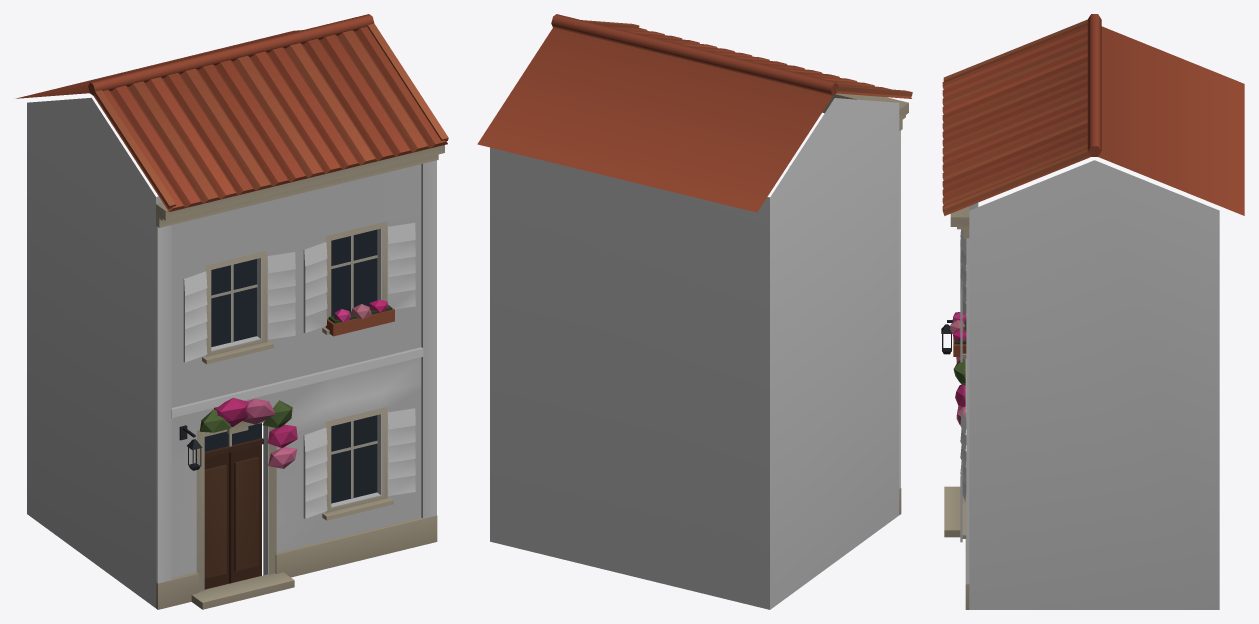
The model's file is plaza-house-a.glb.
3 renders of one model, left to right at view 1: azimuth 30°, elevation 25°; view 2: azimuth 150°, elevation 25°; view 3: azimuth 270°, elevation 25°, orthographic. The views are drawn at different scales.
Parts seen in each view (by area): view 1: stucco, trim, shutters; view 2: stucco, trim; view 3: stucco, trim, shutters.
Part boxes in pixels (x1=…): stucco: x1=27, y1=97, x2=436, y2=607; trim: x1=16, y1=14, x2=448, y2=609; shutters: x1=183, y1=222, x2=415, y2=518; stucco: x1=490, y1=98, x2=900, y2=609; trim: x1=477, y1=14, x2=912, y2=514; stucco: x1=965, y1=160, x2=1219, y2=609; trim: x1=941, y1=14, x2=1244, y2=609; shutters: x1=960, y1=229, x2=966, y2=542.
Bounding box in the file's own units: 5 × 8.18 × 4.85.
